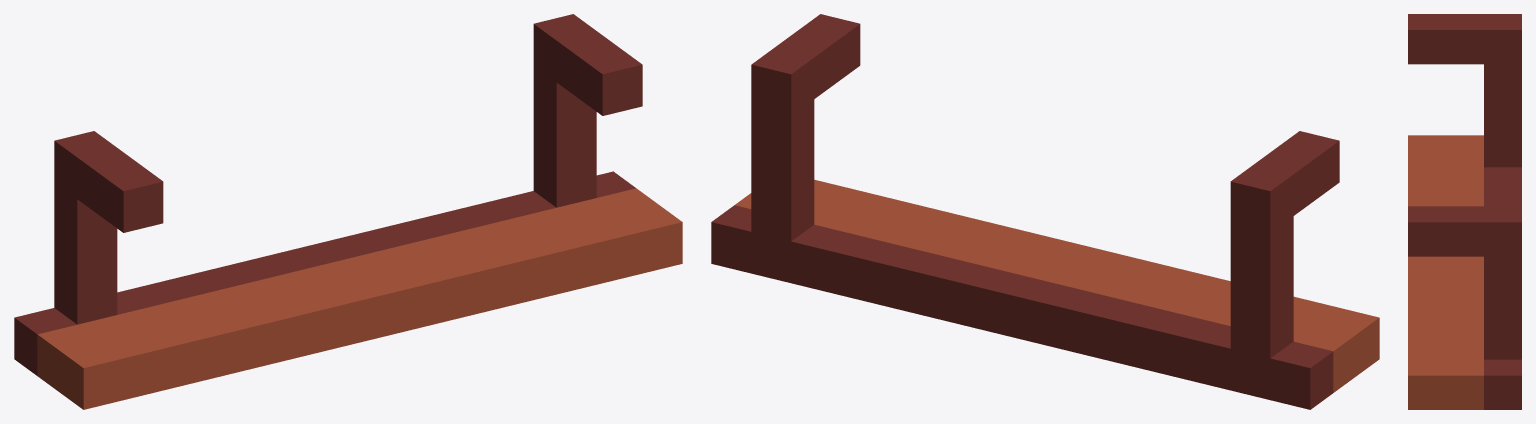
File: bridge_a_segment.obj
3 views of the same model, side by side, from view 1: azimuth 30°, elevation 25°; view 2: azimuth 150°, elevation 25°; view 3: azimuth 270°, elevation 25° (orthographic). The views are drawn at different scales.
Size of the model in its own units: 1.5 by 0.5 by 0.3.
Materials: 1 (1 with a texture image).
